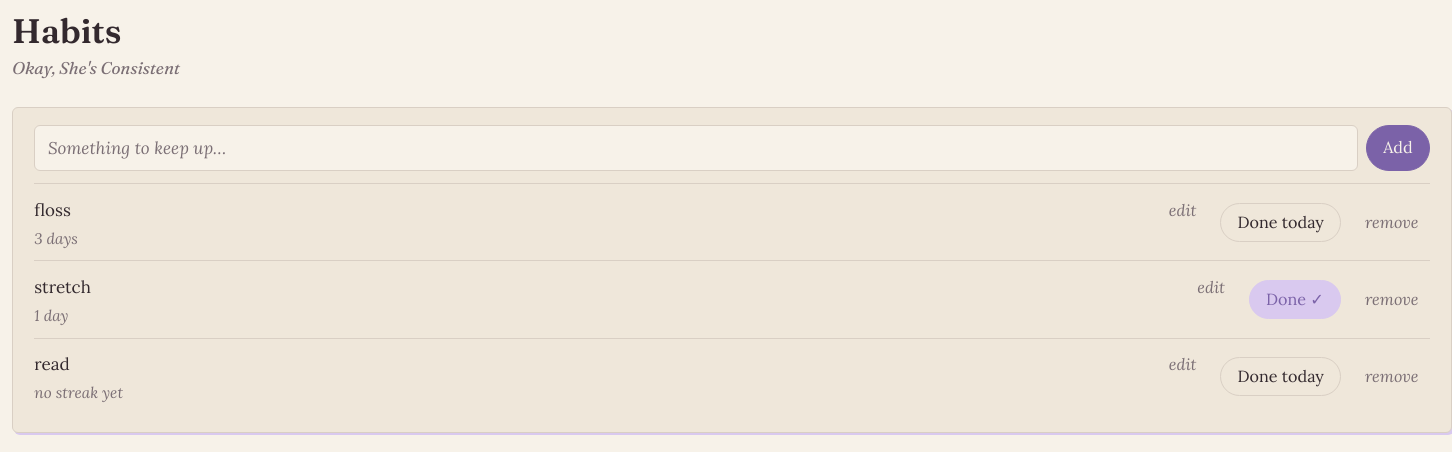
it: completing a habit takes the streak from the response
Expected: the text "floss" is shown, [34,199,71,221]
Click the button "Done today" in the row of "floss": (1281,222) [1220,203,1341,242]
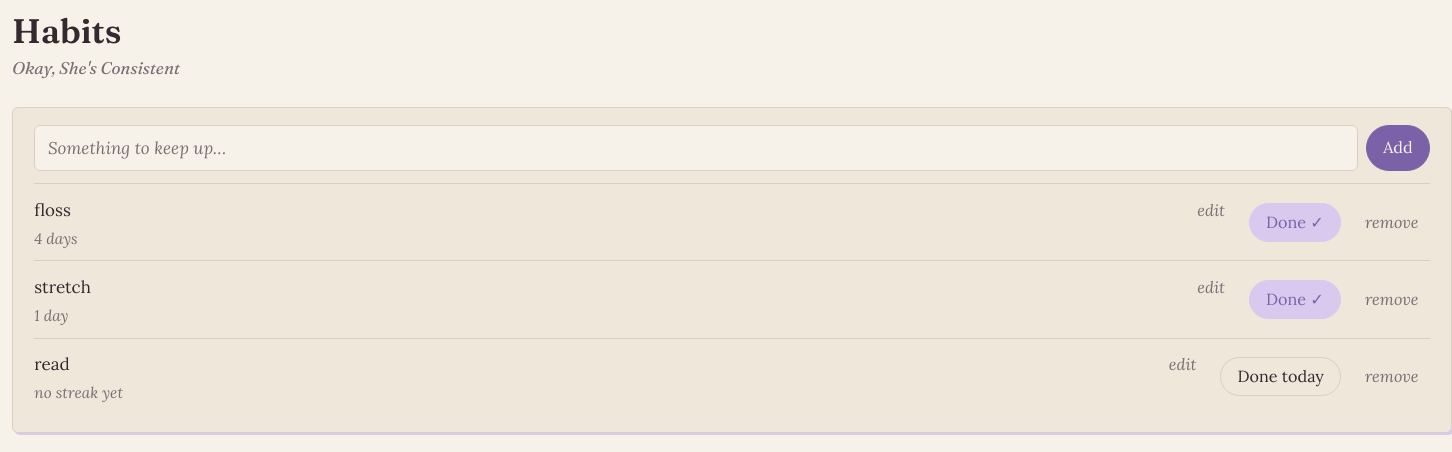
Result: the text "4 days" is shown at [34,229,78,248]
Result: the button "Done ✓" in the row of "floss" is disabled at [1249,203,1341,242]
